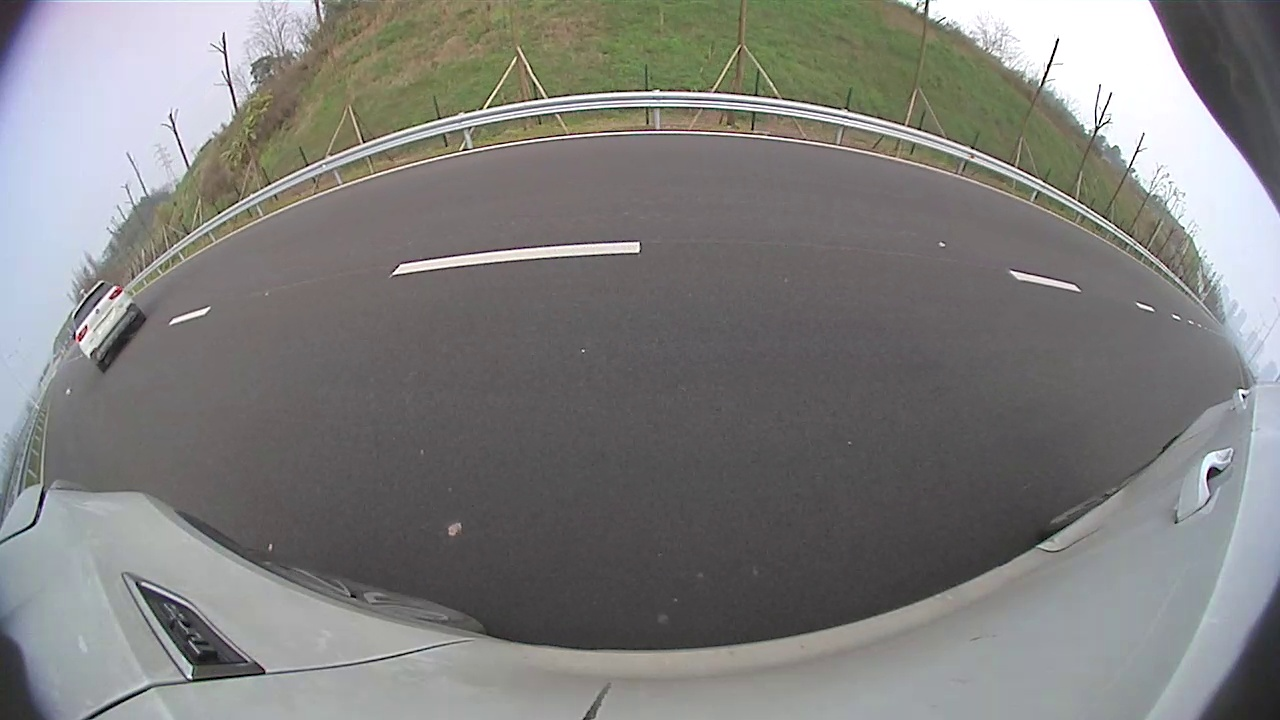car: (1160, 352, 1249, 462)
